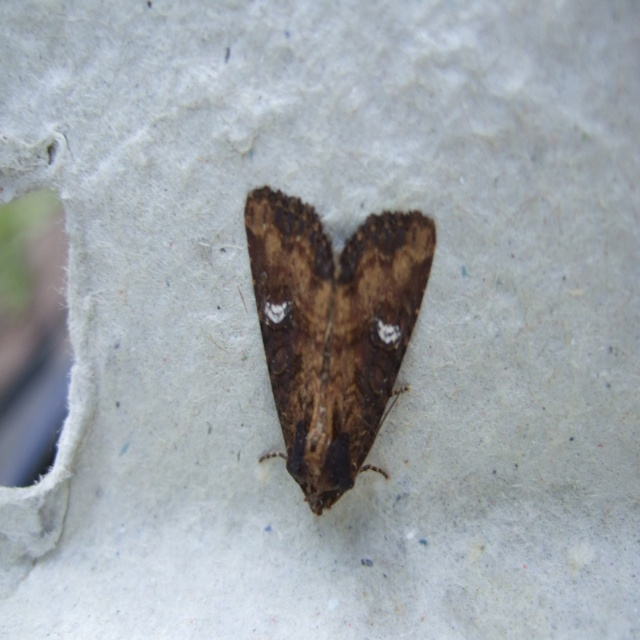Butterfly: (238, 170, 442, 548)
